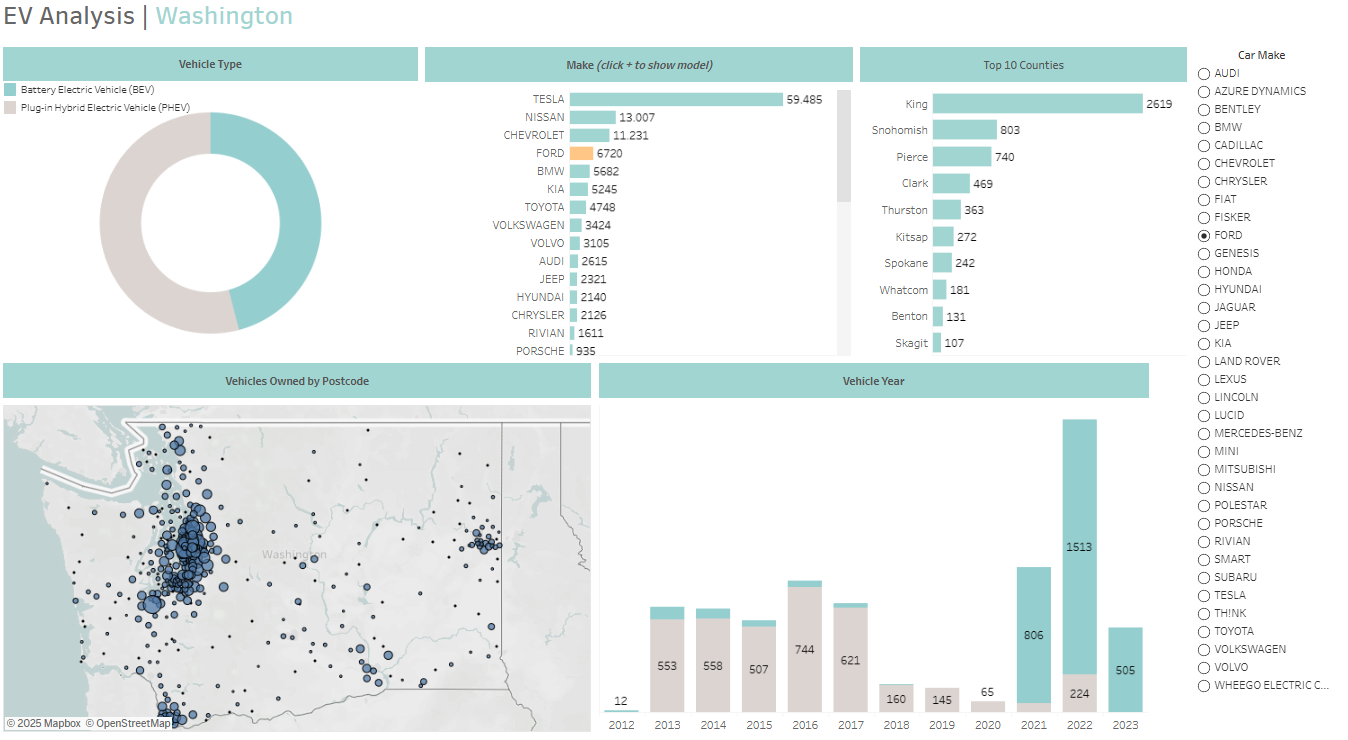

This screenshot's page, from the dashboard's own definition file:
{"tool":"tableau","page":{"name":"Dashboard 1","canvas":[1500,850],"ordinal":0},"visuals":[{"type":"text","box":[8,8,1484,64.6]},{"type":"text","box":[8,72.6,469.2,45]},{"type":"text","box":[477.2,72.6,484.2,47]},{"type":"text","box":[961.4,72.6,370.6,47]},{"type":"parameter","param":"[Parameters].[Parameter 1]","box":[1332,72.6,160,697]},{"type":"legend","title":"Vehicle Type Donut","param":"[federated.0cnst8j18ze4nb14q3u5z0crzqnp].[none:Electric Vehicle Type:nk]","box":[10,114,233,51]},{"type":"worksheet","title":"Make & Model","mark":"Automatic","rows":["Make"],"cols":["DOL Vehicle ID"],"box":[477.2,119.6,484.2,304.6]},{"type":"worksheet","title":"Top 10 Countries","mark":"Automatic","rows":["County"],"cols":["DOL Vehicle ID"],"box":[961.4,119.6,370.6,304.6]},{"type":"worksheet","title":"Vehicle Type Donut","mark":"Pie","rows":["Calculation_793196530721505282","Calculation_793196530721505282"],"box":[8,120,469.2,304.2]},{"type":"text","box":[8,424.2,661.9,47.1]},{"type":"text","box":[669.9,424.2,618.8,47.1]},{"type":"blank","box":[1288.6,424.2,43.4,417.8]},{"type":"worksheet","title":"Map","mark":"Automatic","box":[8,471.3,661.9,370.7]},{"type":"worksheet","title":"Year and Type","mark":"Bar","rows":["DOL Vehicle ID"],"cols":["Model Year"],"box":[669.9,471.3,618.8,370.7]}]}

Visuals, with their boxes on the page's 1500x850 design canvas (x1, y1, x2, y2). These are canvas units, not pixel positions in the 1348x740 screenshot, which may show the page scaled, cropped or inside an application window:
text: crop(8, 8, 1492, 73)
text: crop(8, 73, 477, 118)
text: crop(477, 73, 961, 120)
text: crop(961, 73, 1332, 120)
parameter: crop(1332, 73, 1492, 770)
"Vehicle Type Donut" legend: crop(10, 114, 243, 165)
"Make & Model" worksheet: crop(477, 120, 961, 424)
"Top 10 Countries" worksheet: crop(961, 120, 1332, 424)
"Vehicle Type Donut" worksheet (Pie marks): crop(8, 120, 477, 424)
text: crop(8, 424, 670, 471)
text: crop(670, 424, 1289, 471)
blank: crop(1289, 424, 1332, 842)
"Map" worksheet: crop(8, 471, 670, 842)
"Year and Type" worksheet (Bar marks): crop(670, 471, 1289, 842)
